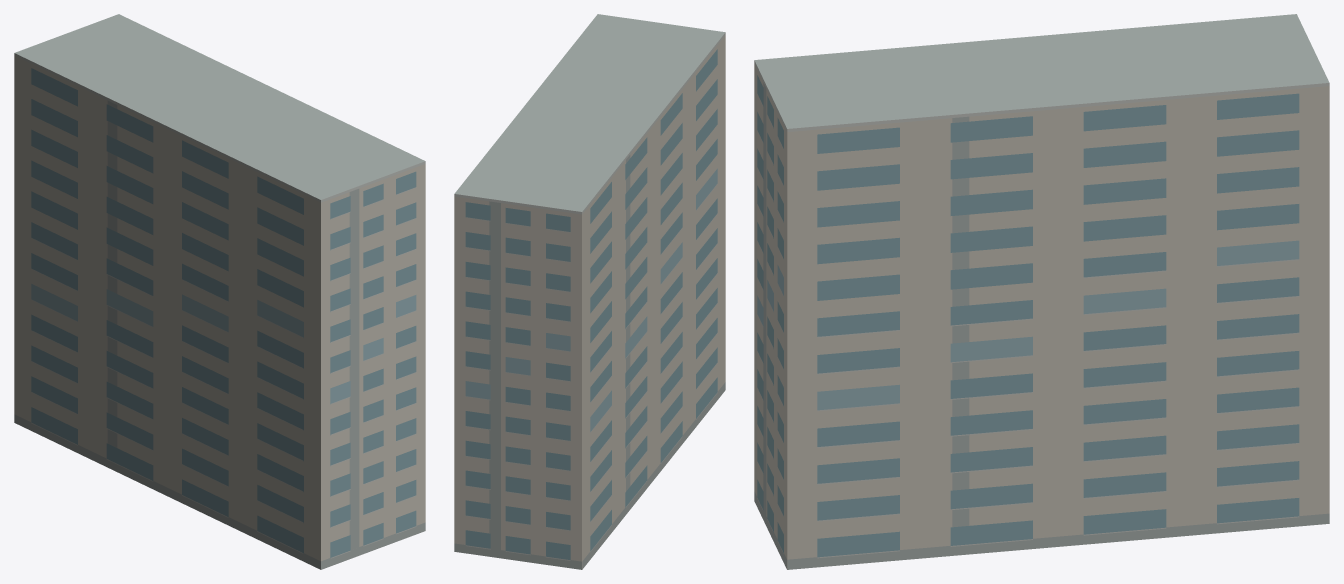
Rendered from residential-01df12bb-c06e-4d38-8402-e966a615897a.glb.
3 renders of one model, left to right at view 1: azimuth 30°, elevation 25°; view 2: azimuth 150°, elevation 25°; view 3: azimuth 270°, elevation 25°, orthographic. The views are drawn at different scales.
Parts seen in each view (by area): view 1: residential-01df12bb-c06e-4d38-8402-e966a615897a.tmp; view 2: residential-01df12bb-c06e-4d38-8402-e966a615897a.tmp; view 3: residential-01df12bb-c06e-4d38-8402-e966a615897a.tmp.
Boxes of the visible parts, <box> form: residential-01df12bb-c06e-4d38-8402-e966a615897a.tmp: <box>14,14,425,569</box>; residential-01df12bb-c06e-4d38-8402-e966a615897a.tmp: <box>454,14,725,569</box>; residential-01df12bb-c06e-4d38-8402-e966a615897a.tmp: <box>754,14,1329,569</box>.
Size of the model in its own units: 19.02 by 34 by 40.21.
